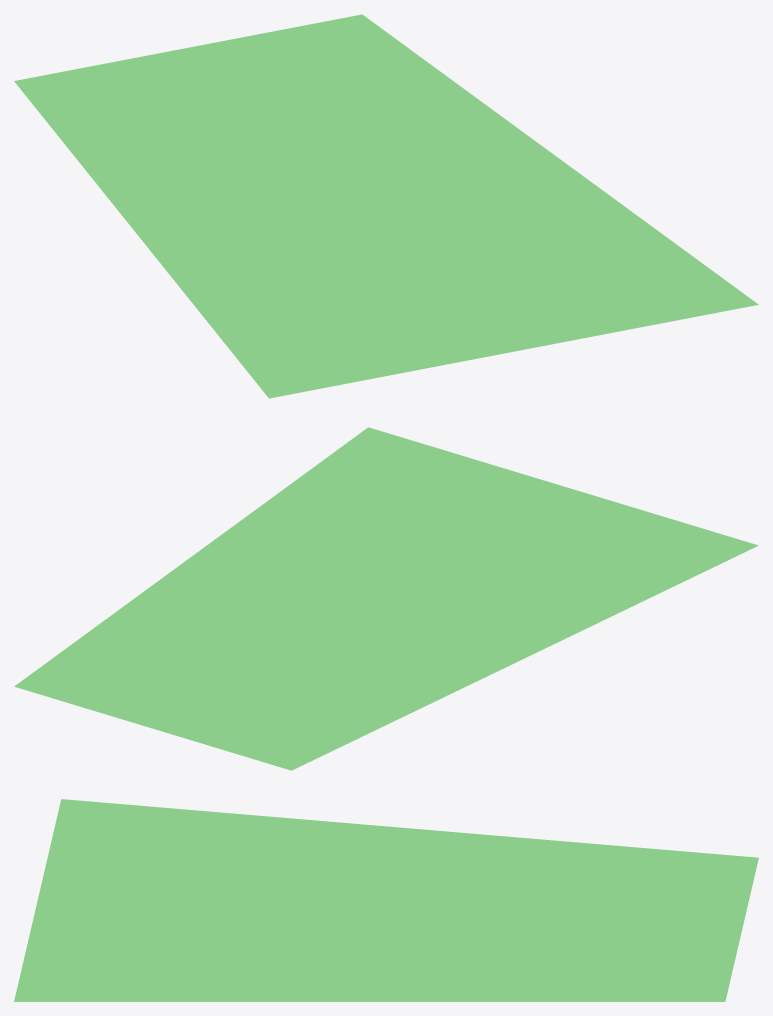
File: dpe_pressure_gauge_green_segment.dae
3 renders of one model, top to bottom at view 1: azimuth 30°, elevation 25°; view 2: azimuth 150°, elevation 25°; view 3: azimuth 270°, elevation 25°, orthographic. The views are drawn at different scales.
Visible parts, largest first — view 1: pressure_gauge_green_segment; view 2: pressure_gauge_green_segment; view 3: pressure_gauge_green_segment.
Part boxes in pixels (x1,y1,x2,y2): pressure_gauge_green_segment: (14,14,758,398); pressure_gauge_green_segment: (14,427,758,770); pressure_gauge_green_segment: (14,799,758,1001).
Size of the model in its own units: 0.0181 by 0.0281 by 0.
